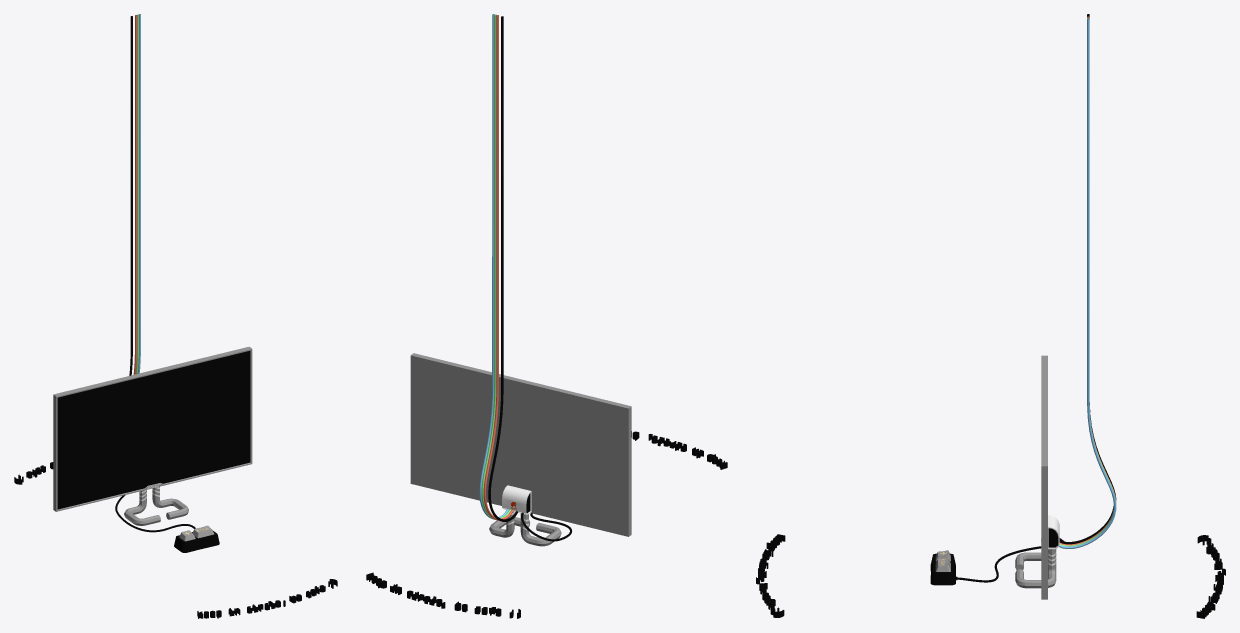
The picture shows the model from 3 angles, left to right: view 1: azimuth 30°, elevation 25°; view 2: azimuth 150°, elevation 25°; view 3: azimuth 270°, elevation 25°; orthographic projection. The views are drawn at different scales.
Visible parts, largest first — view 1: Monitor, PowerWires, SafeText, Table; view 2: Monitor, PowerWires, SafeText; view 3: Monitor, PowerWires, SafeText.
Part boxes in pixels (left/top/right/bottom): Monitor: left=53, top=346, right=252, bottom=525; PowerWires: left=129, top=14, right=140, bottom=375; SafeText: left=14, top=462, right=337, bottom=618; Table: left=174, top=531, right=219, bottom=552; Monitor: left=410, top=353, right=631, bottom=546; PowerWires: left=479, top=14, right=517, bottom=521; SafeText: left=366, top=431, right=727, bottom=618; Monitor: left=1015, top=355, right=1059, bottom=599; PowerWires: left=1059, top=14, right=1116, bottom=548; SafeText: left=756, top=534, right=1225, bottom=618.
Size of what is drawn, in the model's own units: 1600 by 3801 by 2871.
